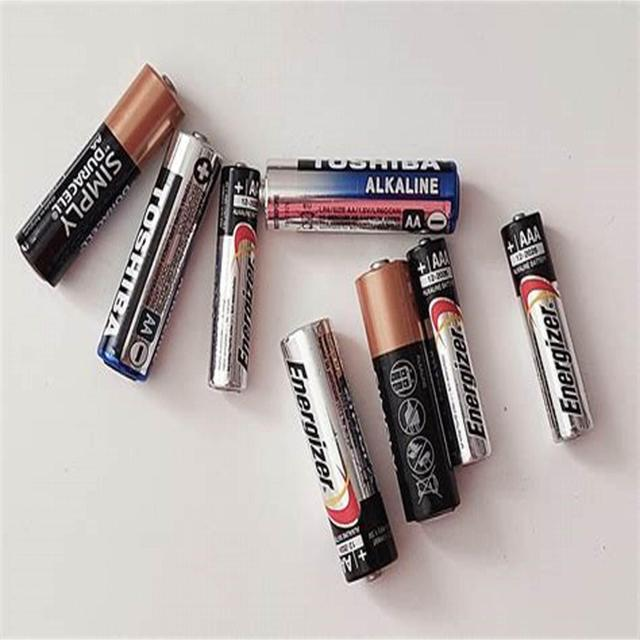battery: (17, 63, 188, 287), (98, 127, 225, 383), (281, 317, 401, 587), (355, 255, 462, 527), (500, 212, 596, 446), (406, 236, 493, 469), (259, 156, 461, 236), (208, 160, 262, 393)
